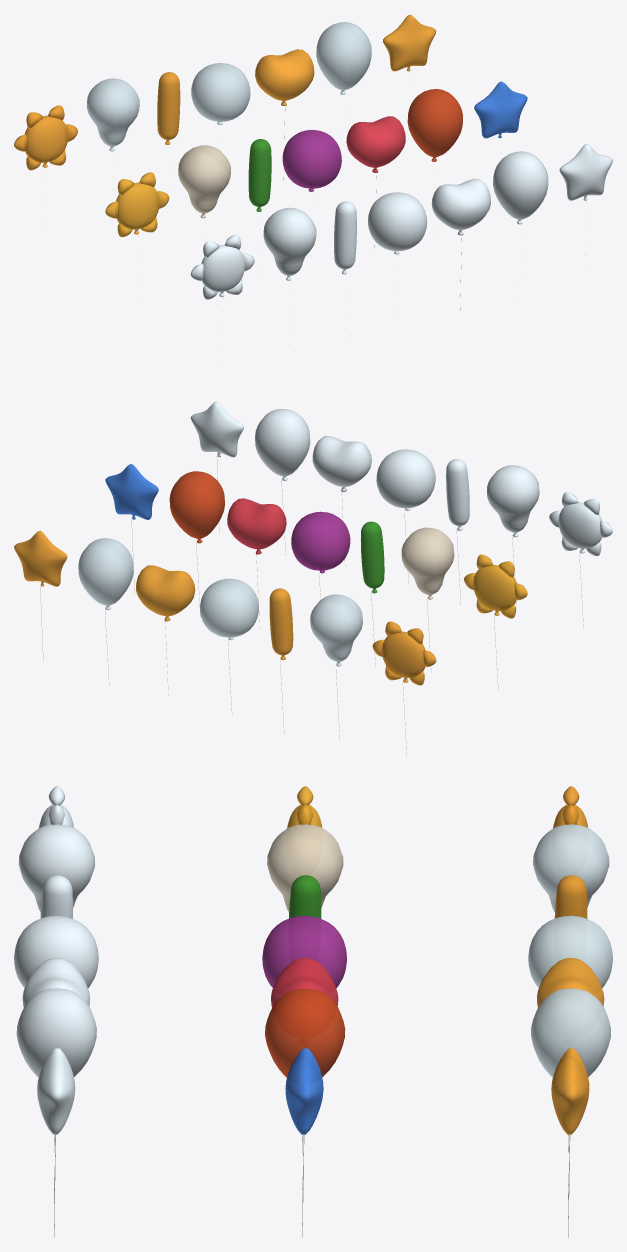
Rendered from Balloons.fbx.
3 views of the same model, one above another, from view 1: azimuth 30°, elevation 25°; view 2: azimuth 150°, elevation 25°; view 3: azimuth 270°, elevation 25° (orthographic). The views are drawn at different scales.
Visible parts, largest first — view 1: Cube.033_Cube.043_transparent, Cube.050_Cube.060_silver, Cube.043_Cube.053_Orange, Cube.046_Cube.056_redpurple, Cube.036_Cube.046_transparent, Cube.053_Cube.063_silver, Cube.052_Cube.062_silver, Cube.035_Cube.045_transparent, Cube.045_Cube.055_white, Cube.056_Cube.066_gold, Cube.049_Cube.059_yellow, Cube.041_Cube.051_transparent (+9 smaller); view 2: Cube.043_Cube.053_Orange, Cube.050_Cube.060_silver, Cube.033_Cube.043_transparent, Cube.036_Cube.046_transparent, Cube.046_Cube.056_redpurple, Cube.053_Cube.063_silver, Cube.052_Cube.062_silver, Cube.045_Cube.055_white, Cube.035_Cube.045_transparent, Cube.056_Cube.066_gold, Cube.049_Cube.059_yellow, Cube.041_Cube.051_transparent (+9 smaller); view 3: Cube.050_Cube.060_silver, Cube.033_Cube.043_transparent, Cube.043_Cube.053_Orange, Cube.045_Cube.055_white, Cube.052_Cube.062_silver, Cube.035_Cube.045_transparent, Cube.036_Cube.046_transparent, Cube.053_Cube.063_silver, Cube.046_Cube.056_redpurple, Cube.034_Cube.044_transparent, Cube.044_Cube.054_blue, Cube.051_Cube.061_gold (+9 smaller).
Part boxes in pixels (<box>): Cube.033_Cube.043_transparent: <box>493,151,548,224</box>; Cube.050_Cube.060_silver: <box>316,22,371,94</box>; Cube.043_Cube.053_Orange: <box>407,89,462,161</box>; Cube.046_Cube.056_redpurple: <box>282,130,341,191</box>; Cube.036_Cube.046_transparent: <box>368,192,427,254</box>; Cube.053_Cube.063_silver: <box>191,63,250,124</box>; Cube.052_Cube.062_silver: <box>87,78,139,151</box>; Cube.035_Cube.045_transparent: <box>263,207,316,280</box>; Cube.045_Cube.055_white: <box>178,145,230,218</box>; Cube.056_Cube.066_gold: <box>14,105,77,170</box>; Cube.049_Cube.059_yellow: <box>105,172,169,237</box>; Cube.041_Cube.051_transparent: <box>190,234,254,299</box>; Cube.043_Cube.053_Orange: <box>169,471,224,543</box>; Cube.050_Cube.060_silver: <box>78,538,133,610</box>; Cube.033_Cube.043_transparent: <box>255,409,310,480</box>; Cube.036_Cube.046_transparent: <box>376,449,435,510</box>; Cube.046_Cube.056_redpurple: <box>291,511,350,573</box>; Cube.053_Cube.063_silver: <box>200,578,258,639</box>; Cube.052_Cube.062_silver: <box>310,594,362,666</box>; Cube.045_Cube.055_white: <box>401,527,454,599</box>; Cube.035_Cube.045_transparent: <box>486,465,539,537</box>; Cube.056_Cube.066_gold: <box>372,621,436,685</box>; Cube.049_Cube.059_yellow: <box>464,554,527,618</box>; Cube.041_Cube.051_transparent: <box>549,492,612,555</box>; Cube.050_Cube.060_silver: <box>531,988,610,1077</box>; Cube.033_Cube.043_transparent: <box>16,988,96,1077</box>; Cube.043_Cube.053_Orange: <box>265,988,345,1077</box>; Cube.045_Cube.055_white: <box>267,824,343,911</box>; Cube.052_Cube.062_silver: <box>533,824,609,911</box>; Cube.035_Cube.045_transparent: <box>18,824,94,912</box>; Cube.036_Cube.046_transparent: <box>14,915,98,987</box>; Cube.053_Cube.063_silver: <box>528,915,612,987</box>; Cube.046_Cube.056_redpurple: <box>262,915,346,988</box>; Cube.034_Cube.044_transparent: <box>37,1048,75,1134</box>; Cube.044_Cube.054_blue: <box>285,1048,323,1134</box>; Cube.051_Cube.061_gold: <box>551,1048,589,1134</box>.
Size of what is drawn, in the model's own units: 822 by 282 by 695.
